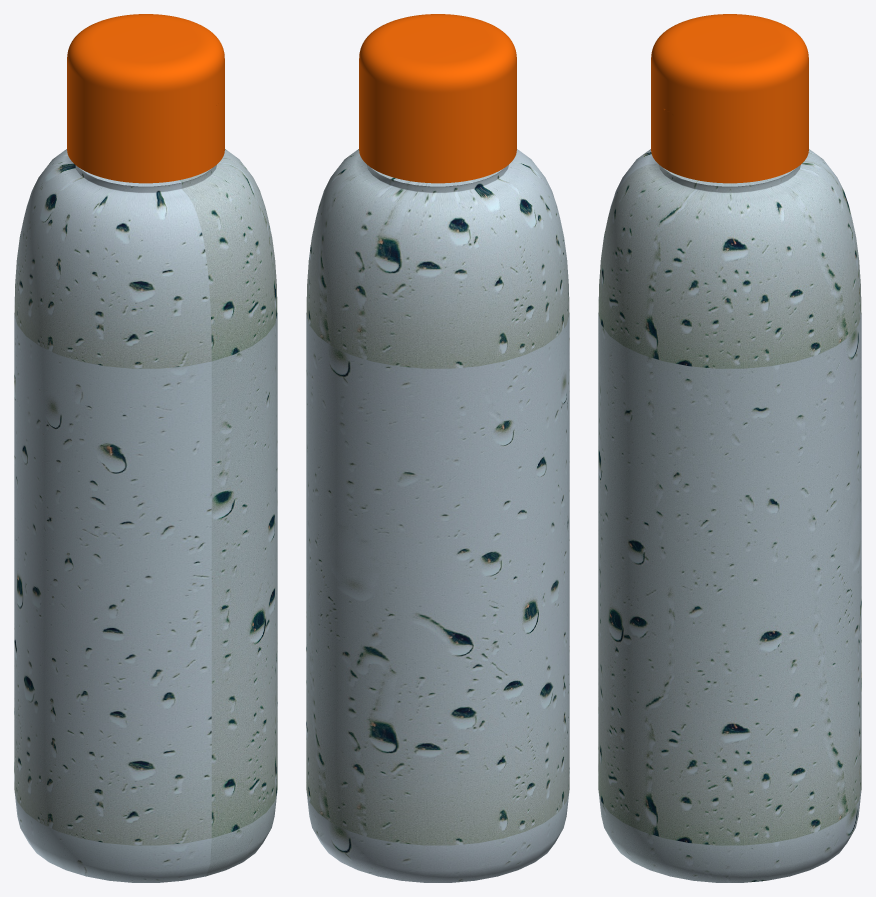
Rendered from bottle.obj.
3 views of the same model, side by side, from view 1: azimuth 30°, elevation 25°; view 2: azimuth 150°, elevation 25°; view 3: azimuth 270°, elevation 25° (orthographic).
Visible parts, largest first — view 1: Cylinder, Cylinder2; view 2: Cylinder, Cylinder2; view 3: Cylinder, Cylinder2.
Boxes of the visible parts, <box> form: Cylinder: <box>14,149,277,882</box>; Cylinder2: <box>67,14,224,183</box>; Cylinder: <box>306,149,569,882</box>; Cylinder2: <box>359,14,516,183</box>; Cylinder: <box>598,149,861,882</box>; Cylinder2: <box>651,14,808,183</box>.
Bounding box in the file's own units: 9.95 × 33.46 × 10.
3 materials, 1 textured.
